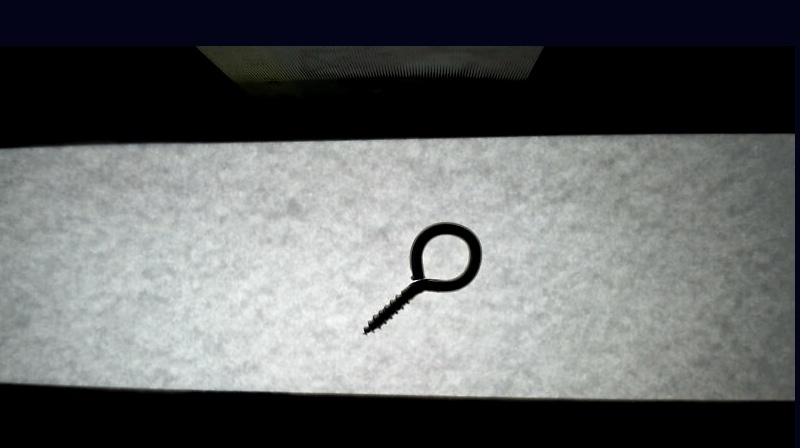O001: (359, 218, 487, 338)
